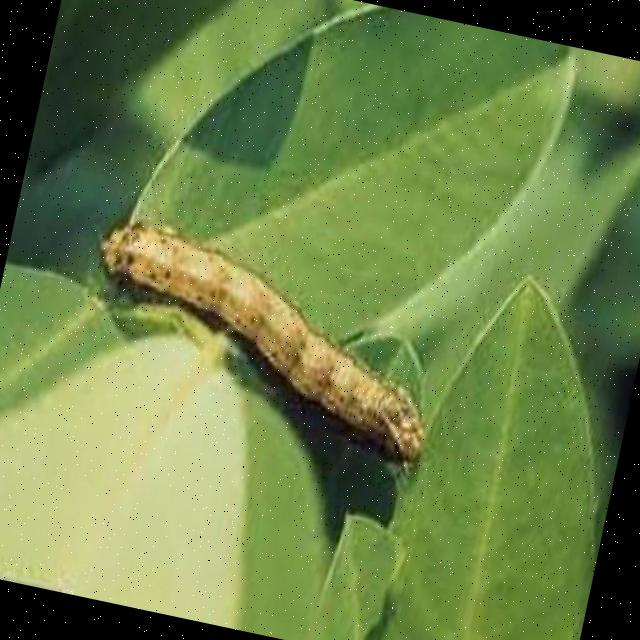worm: (66, 212, 460, 482)
